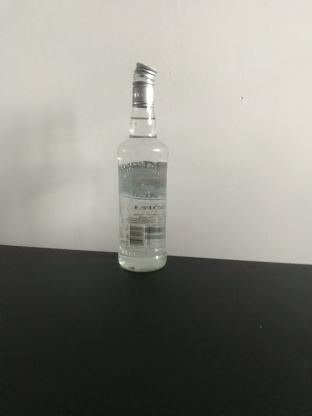nakretka: (130, 59, 158, 108)
